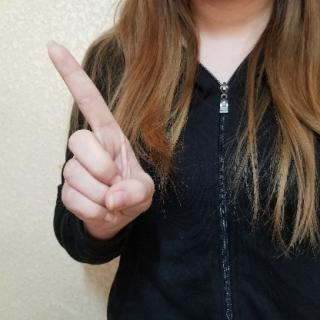BAA: (43, 35, 159, 233)
